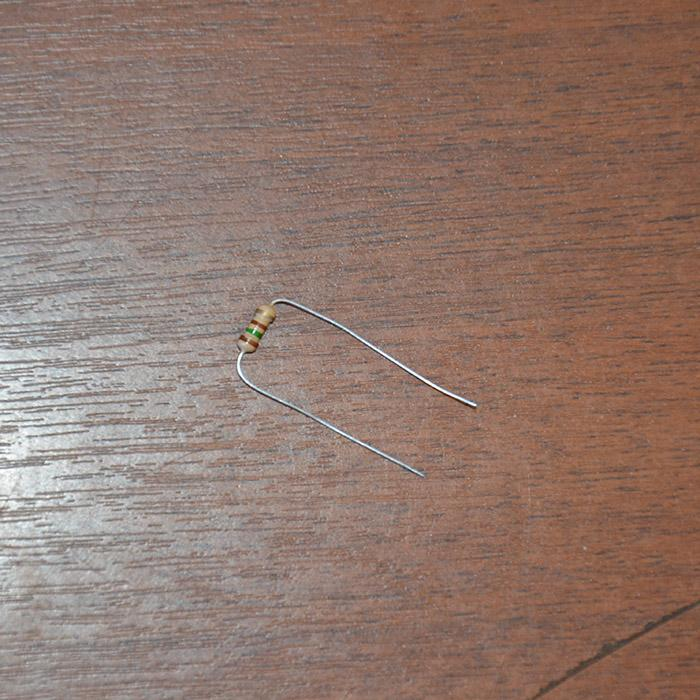resistor: (238, 302, 277, 352)
